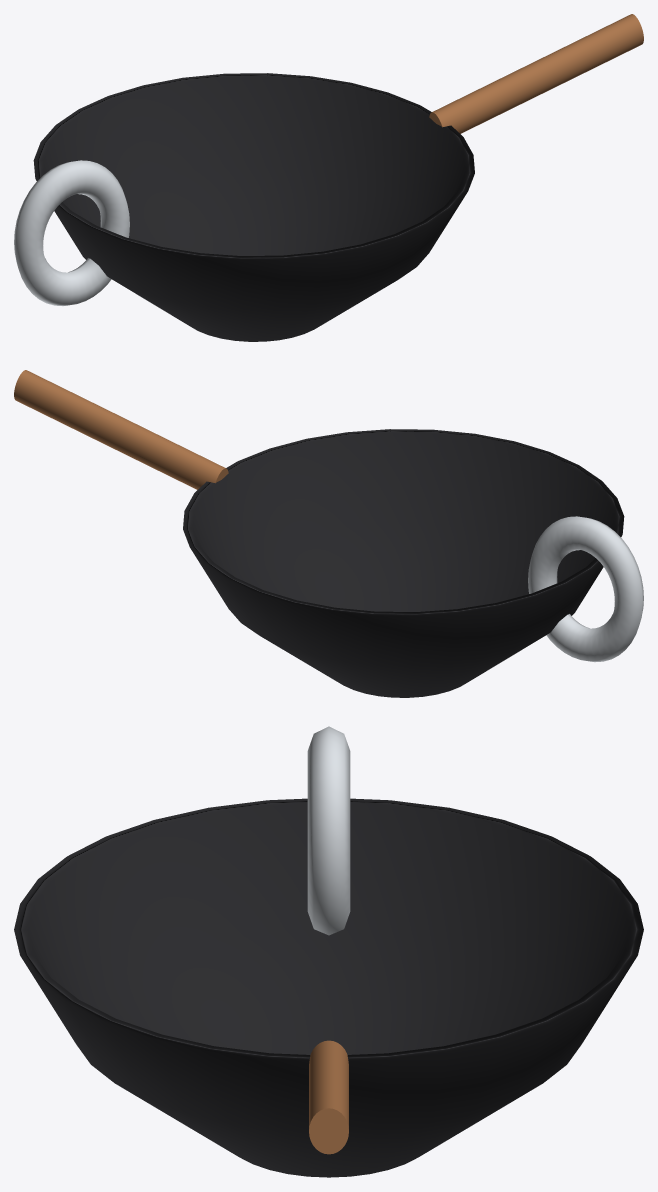
The model's file is wp-wok.glb.
3 renders of one model, top to bottom at view 1: azimuth 30°, elevation 25°; view 2: azimuth 150°, elevation 25°; view 3: azimuth 270°, elevation 25°, orthographic. The views are drawn at different scales.
Visible parts, largest first — view 1: wp-wok; view 2: wp-wok; view 3: wp-wok.
Part boxes in pixels (x1,y1,x2,y2): wp-wok: [14, 14, 643, 341]; wp-wok: [14, 370, 643, 697]; wp-wok: [14, 726, 643, 1177].
Size of the model in its own units: 0.55 by 0.18 by 0.34.
